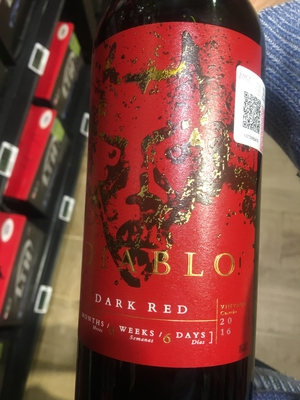diablo dark red: (79, 19, 266, 400)
